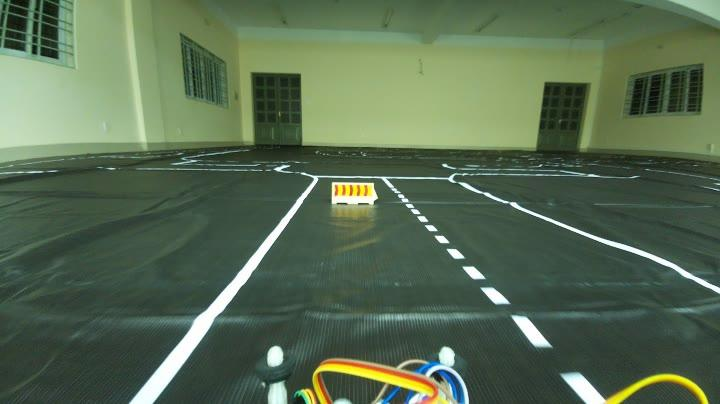roadblock: (327, 179, 381, 204)
